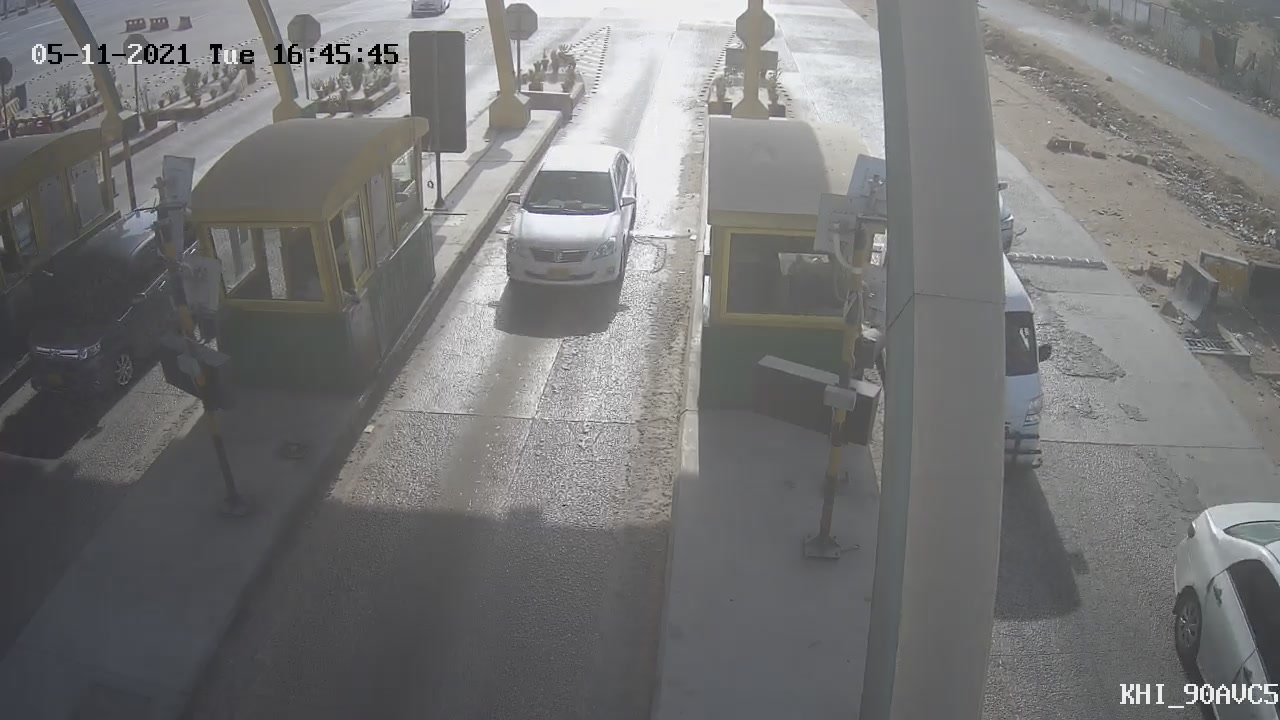F1: (485, 130, 656, 316)
